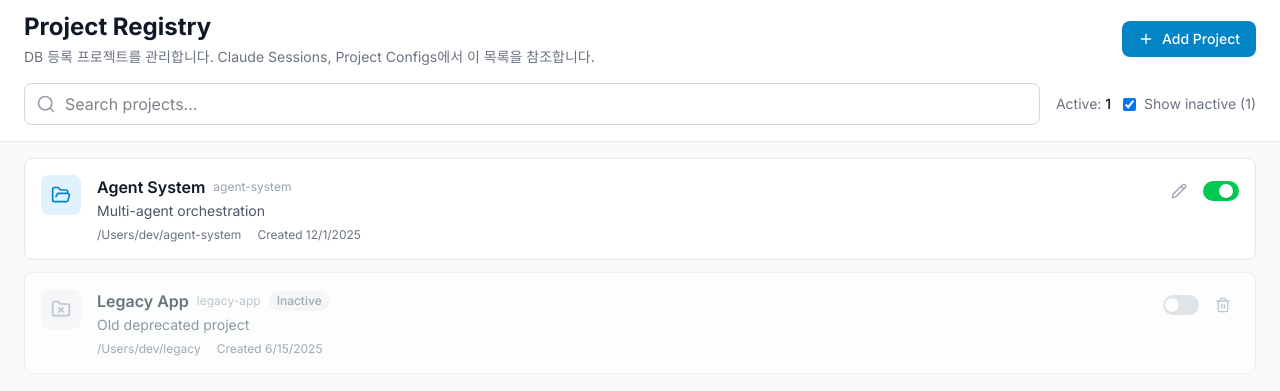
Scenario: ProjectManagementPage › show inactive toggle › hides inactive projects when toggle is unchecked
The image size is (1280, 391).
# Uncheck it
Click the checkbox: (1130, 104) [1123, 98, 1136, 110]
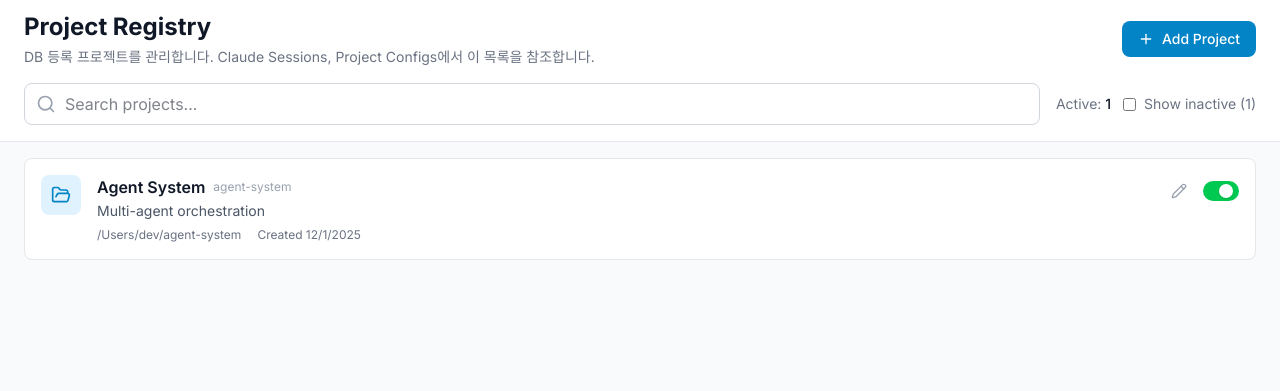
Expected: the heading "Agent System" is shown, [97, 175, 205, 199]
Result: the heading "Legacy App" is gone
